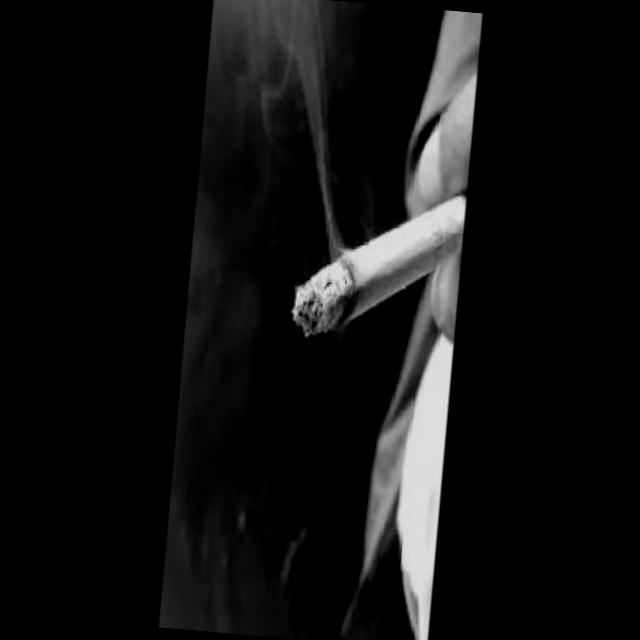smoke: (252, 46, 477, 355)
